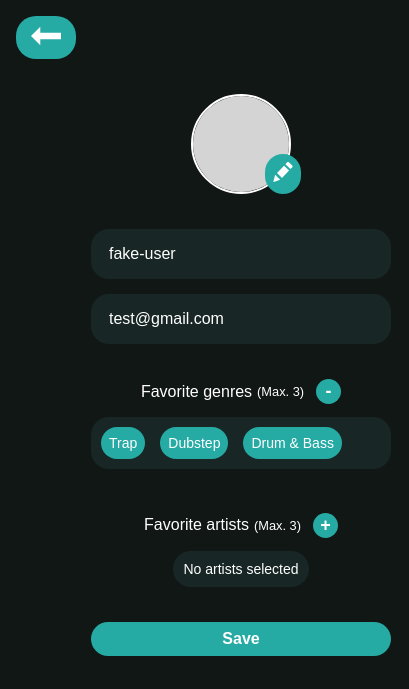
Test case: EditProfileComponent › Affichage de la page d'édition du profil › Saisie dans le formulaire › devrait afficher une erreur lors de la saisie /a$.-* dans le champs
Clear the field with test id "edit-profile-input-username" at (241, 254), box [91,229,391,279]
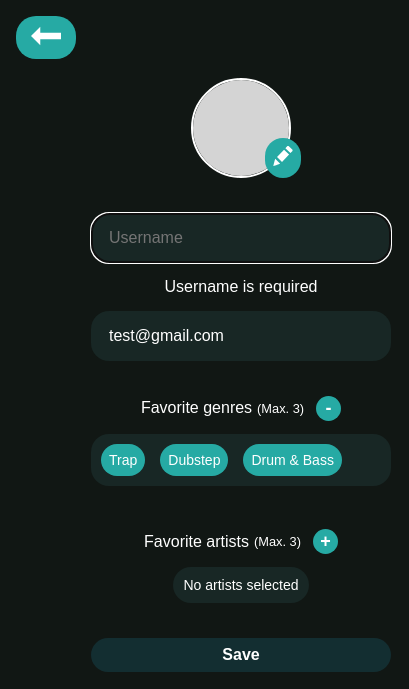
Type "/a$.-*" into the field with test id "edit-profile-input-username" at (241, 238), box [91,213,391,263]
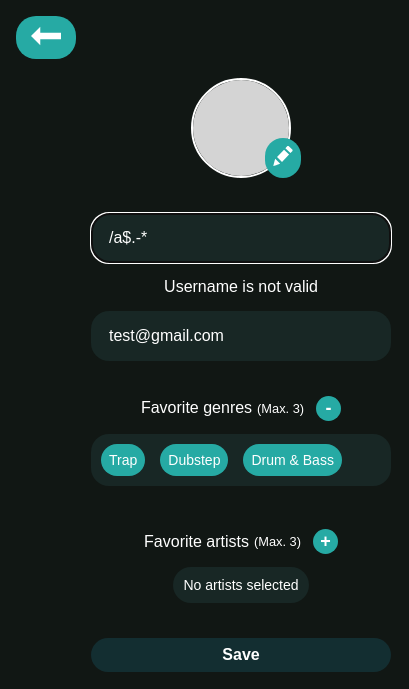
Check: the text "Username is not valid" is shown, box [164,278,318,296]
Check: the text with test id "edit-profile-error-text-username" reads "Username is not valid", box [164,278,318,295]
